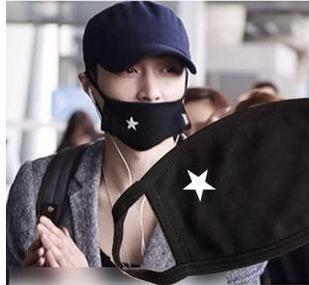WRONG: (96, 55, 188, 147)
